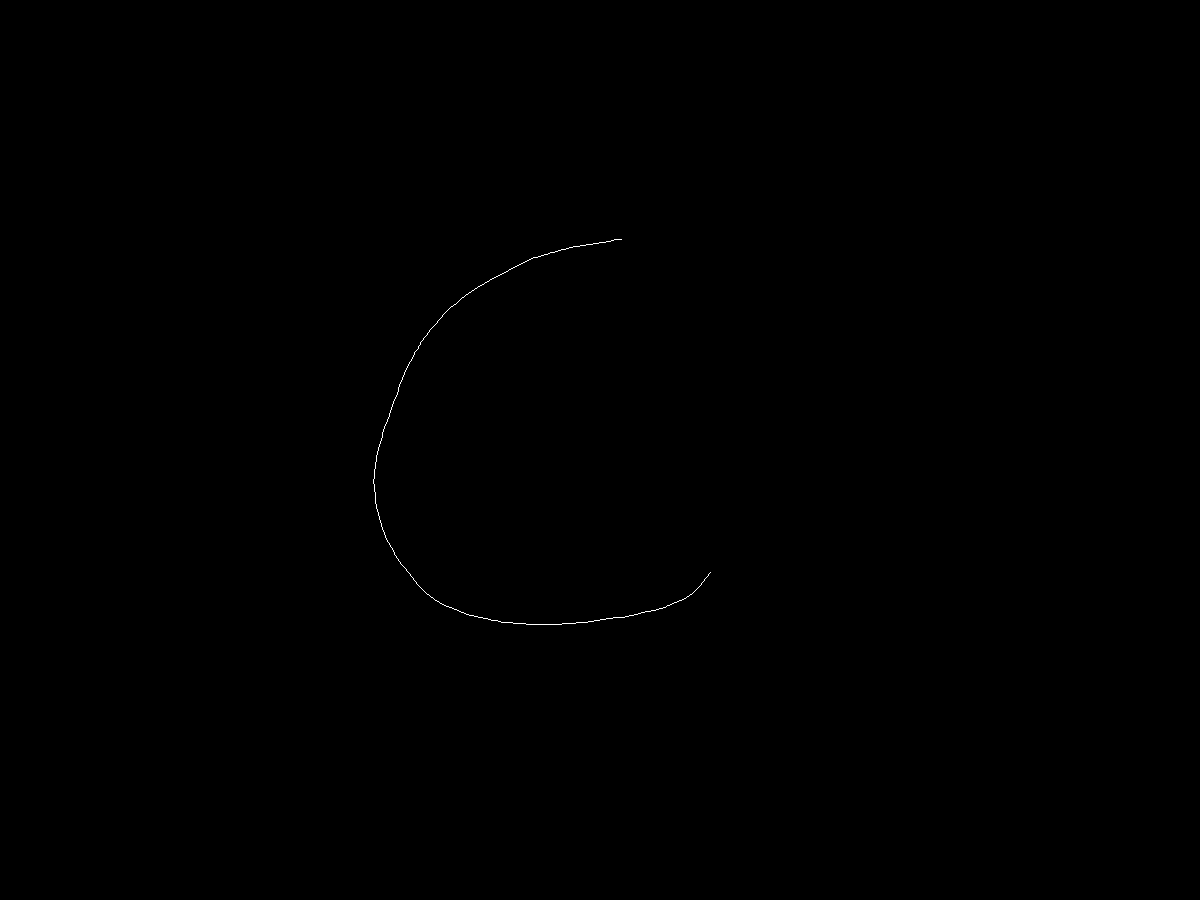dian1: (611, 231, 626, 249)
dian2: (702, 555, 724, 578)
